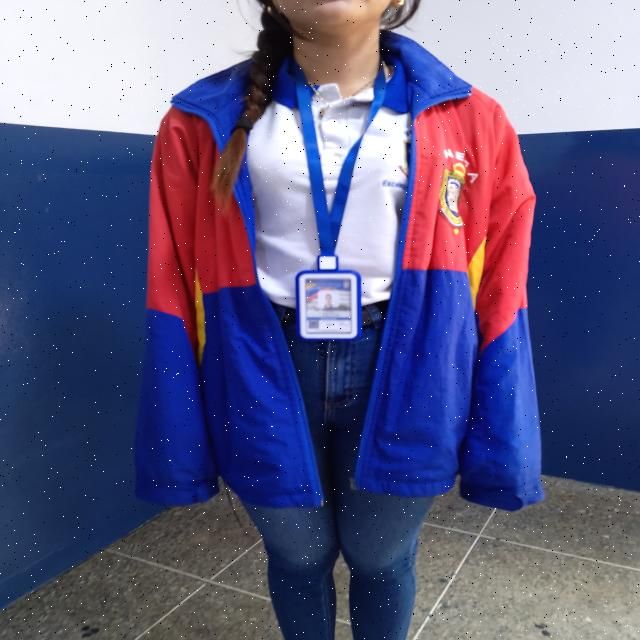carnet: (303, 276, 356, 336)
chaqueta_unefa: (131, 30, 543, 512)
